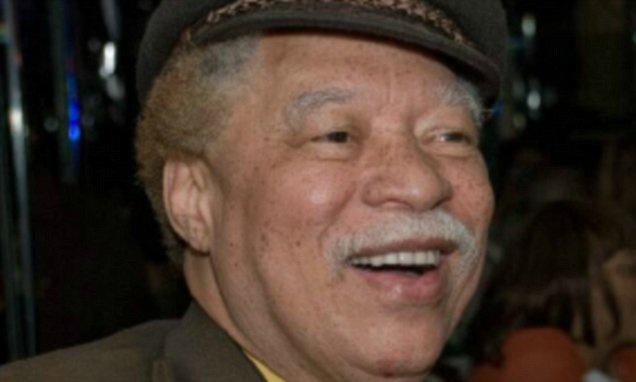bad: (260, 52, 527, 320)
